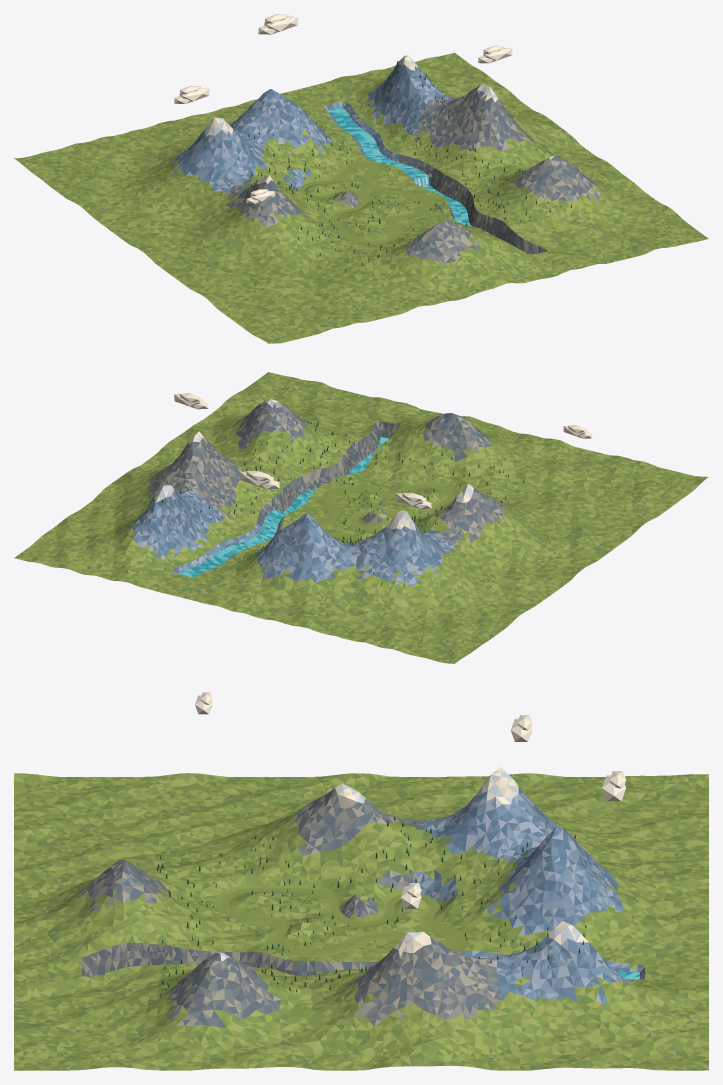
File: alpine-environment-MgX1Pteo.glb
3 views of the same model, one above another, from view 1: azimuth 30°, elevation 25°; view 2: azimuth 150°, elevation 25°; view 3: azimuth 270°, elevation 25° (orthographic). The views are drawn at different scales.
Parts seen in each view (by area): view 1: Mountain shelf · triangulated meadow and cliffs, Upper glacier river; view 2: Mountain shelf · triangulated meadow and cliffs, Upper glacier river, Lower turquoise river; view 3: Mountain shelf · triangulated meadow and cliffs.
Boxes of the visible parts, x1,y1,x2,y2 form: Mountain shelf · triangulated meadow and cliffs: [14, 52, 708, 343]; Upper glacier river: [328, 107, 428, 179]; Mountain shelf · triangulated meadow and cliffs: [14, 372, 708, 663]; Upper glacier river: [179, 509, 288, 577]; Lower turquoise river: [284, 436, 388, 512]; Mountain shelf · triangulated meadow and cliffs: [14, 767, 708, 1070].
Size of the model in its own units: 1575 by 431 by 1575.
